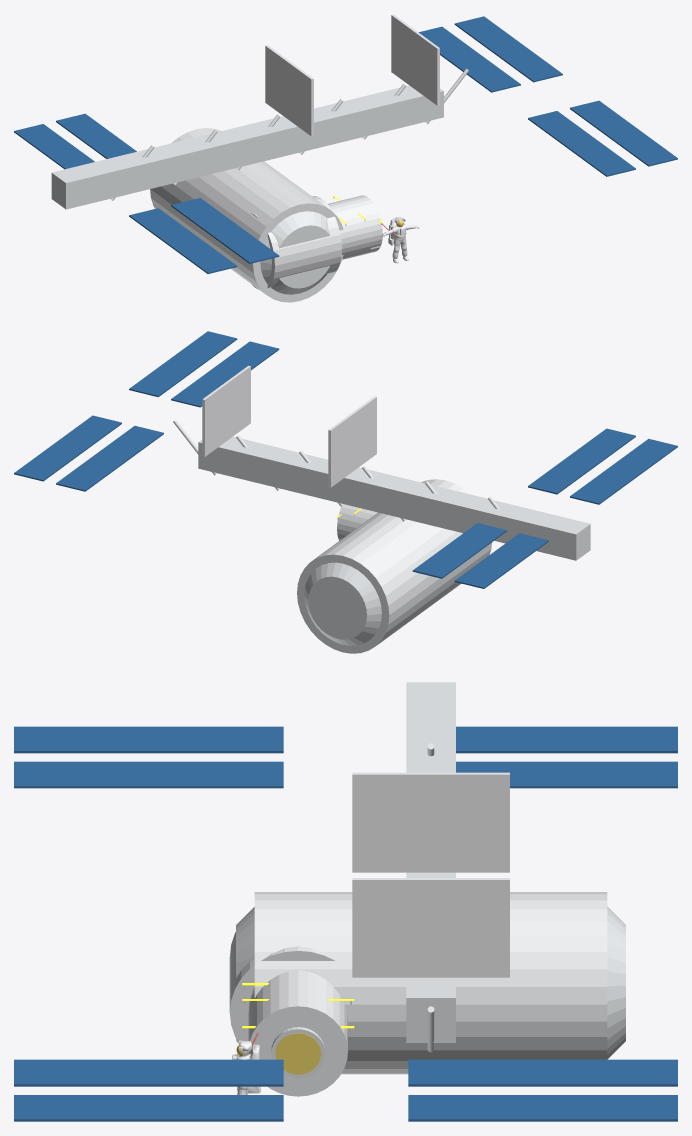
The model's file is astronaut_eva.glb.
3 renders of one model, top to bottom at view 1: azimuth 30°, elevation 25°; view 2: azimuth 150°, elevation 25°; view 3: azimuth 270°, elevation 25°, orthographic. The views are drawn at different scales.
Parts seen in each view (by area): view 1: Integrated_Truss_Structure, US_Destiny_Lab_Module, Thermal_Radiator_3.5, Thermal_Radiator_-2.5, Quest_Equipment_Lock, Destiny_Endcone_0.5, Solar_Array_Wing_9.5_7.5, Solar_Array_Wing_-9.5_-2.0, Solar_Array_Wing_-11.5_-2.0, Solar_Array_Wing_9.5_-2.0, Solar_Array_Wing_7.5_-2.0, Quest_Crew_Lock (+4 smaller); view 2: Integrated_Truss_Structure, US_Destiny_Lab_Module, Destiny_Endcone_9.1, Thermal_Radiator_3.5, Thermal_Radiator_-2.5, Solar_Array_Wing_9.5_-2.0, Solar_Array_Wing_9.5_7.5, Solar_Array_Wing_-9.5_-2.0, Solar_Array_Wing_7.5_7.5, Solar_Array_Wing_-11.5_-2.0, Solar_Array_Wing_7.5_-2.0, Solar_Array_Wing_-9.5_7.5 (+2 smaller); view 3: US_Destiny_Lab_Module, Thermal_Radiator_-2.5, Thermal_Radiator_3.5, Integrated_Truss_Structure, Solar_Array_Wing_7.5_7.5, Solar_Array_Wing_7.5_-2.0, Solar_Array_Wing_-9.5_-2.0, Solar_Array_Wing_-11.5_-2.0, Quest_Crew_Lock, Solar_Array_Wing_9.5_7.5, Solar_Array_Wing_9.5_-2.0, Solar_Array_Wing_-11.5_7.5 (+7 smaller).
Part boxes in pixels (x1=…): Integrated_Truss_Structure: x1=51, y1=85, x2=443, y2=209; US_Destiny_Lab_Module: x1=150, y1=128, x2=343, y2=302; Thermal_Radiator_3.5: x1=391, y1=14, x2=439, y2=105; Thermal_Radiator_-2.5: x1=265, y1=45, x2=313, y2=136; Quest_Equipment_Lock: x1=251, y1=196, x2=341, y2=289; Destiny_Endcone_0.5: x1=260, y1=211, x2=329, y2=294; Solar_Array_Wing_9.5_7.5: x1=454, y1=16, x2=562, y2=82; Solar_Array_Wing_-9.5_-2.0: x1=171, y1=198, x2=279, y2=263; Solar_Array_Wing_-11.5_-2.0: x1=129, y1=208, x2=237, y2=273; Solar_Array_Wing_9.5_-2.0: x1=570, y1=100, x2=677, y2=166; Solar_Array_Wing_7.5_-2.0: x1=528, y1=111, x2=635, y2=176; Quest_Crew_Lock: x1=327, y1=195, x2=382, y2=259; Integrated_Truss_Structure: x1=198, y1=436, x2=590, y2=560; US_Destiny_Lab_Module: x1=297, y1=479, x2=491, y2=653; Destiny_Endcone_9.1: x1=304, y1=562, x2=381, y2=645; Thermal_Radiator_3.5: x1=202, y1=365, x2=250, y2=456; Thermal_Radiator_-2.5: x1=328, y1=396, x2=376, y2=487; Solar_Array_Wing_9.5_-2.0: x1=129, y1=331, x2=237, y2=397; Solar_Array_Wing_9.5_7.5: x1=14, y1=415, x2=121, y2=481; Solar_Array_Wing_-9.5_-2.0: x1=528, y1=428, x2=635, y2=494; Solar_Array_Wing_7.5_7.5: x1=56, y1=426, x2=163, y2=491; Solar_Array_Wing_-11.5_-2.0: x1=570, y1=438, x2=677, y2=504; Solar_Array_Wing_7.5_-2.0: x1=171, y1=341, x2=279, y2=407; Solar_Array_Wing_-9.5_7.5: x1=412, y1=523, x2=506, y2=578; US_Destiny_Lab_Module: x1=254, y1=892, x2=607, y2=1074; Thermal_Radiator_-2.5: x1=352, y1=772, x2=509, y2=872; Thermal_Radiator_3.5: x1=352, y1=878, x2=509, y2=977; Integrated_Truss_Structure: x1=406, y1=682, x2=455, y2=1042; Solar_Array_Wing_7.5_7.5: x1=408, y1=1059, x2=677, y2=1086; Solar_Array_Wing_7.5_-2.0: x1=14, y1=1059, x2=283, y2=1086; Solar_Array_Wing_-9.5_-2.0: x1=14, y1=761, x2=283, y2=788; Solar_Array_Wing_-11.5_-2.0: x1=14, y1=726, x2=283, y2=753; Quest_Crew_Lock: x1=248, y1=970, x2=347, y2=1096; Solar_Array_Wing_9.5_7.5: x1=408, y1=1095, x2=677, y2=1121; Solar_Array_Wing_9.5_-2.0: x1=14, y1=1095, x2=283, y2=1121; Solar_Array_Wing_-11.5_7.5: x1=456, y1=726, x2=677, y2=753.
Size of the model in its own units: 23.7 by 8.7 by 16.
